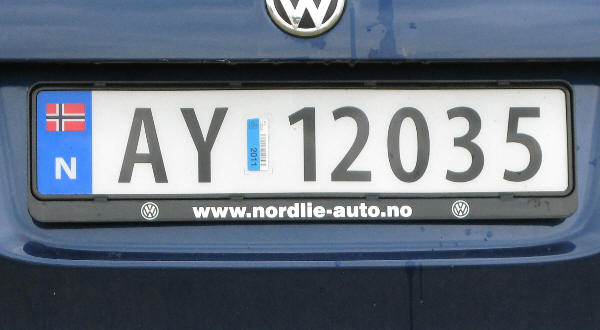license_plate: (32, 86, 574, 198)
